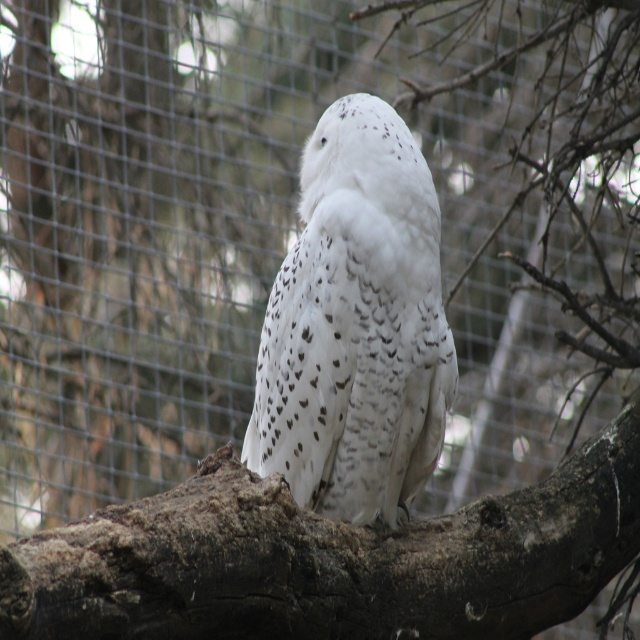Owl: (239, 91, 463, 527)
